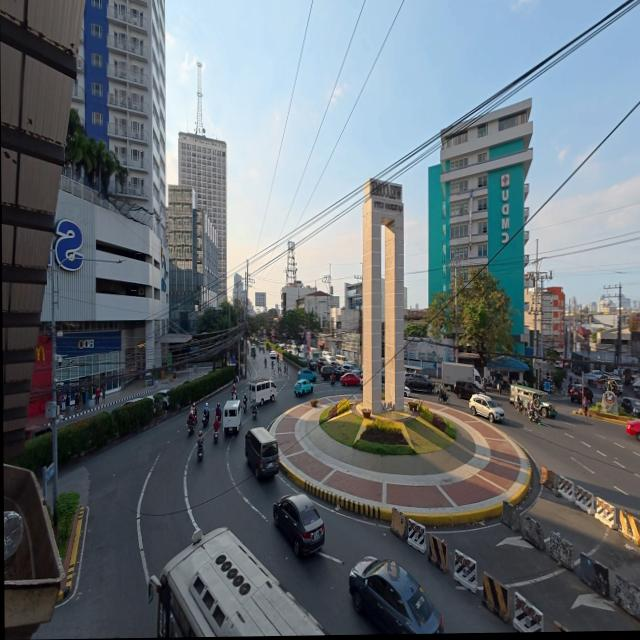Jeepneys: (510, 385, 555, 417)
bus: (148, 528, 324, 637)
car: (348, 558, 443, 633), (273, 494, 323, 555), (469, 394, 503, 422), (404, 372, 433, 393), (452, 380, 478, 399), (568, 384, 592, 404), (619, 398, 639, 418), (24, 425, 50, 440), (320, 365, 341, 380), (293, 380, 312, 396), (626, 420, 639, 442), (297, 368, 316, 382), (340, 372, 360, 385), (121, 397, 142, 406), (317, 357, 328, 371), (341, 362, 356, 372), (350, 367, 362, 377), (307, 359, 317, 370), (403, 386, 410, 397), (269, 350, 277, 359), (258, 344, 264, 352)
motorcycle: (527, 410, 540, 425), (437, 389, 449, 403), (186, 418, 193, 436), (196, 443, 202, 461), (213, 423, 218, 443), (201, 415, 208, 429), (514, 398, 521, 412), (242, 395, 246, 411), (252, 404, 256, 419), (330, 376, 334, 385), (264, 359, 266, 367)
trucks: (441, 361, 482, 391)
vans: (244, 427, 278, 479), (248, 378, 275, 404), (222, 400, 240, 434), (335, 355, 347, 365), (321, 350, 330, 358)
